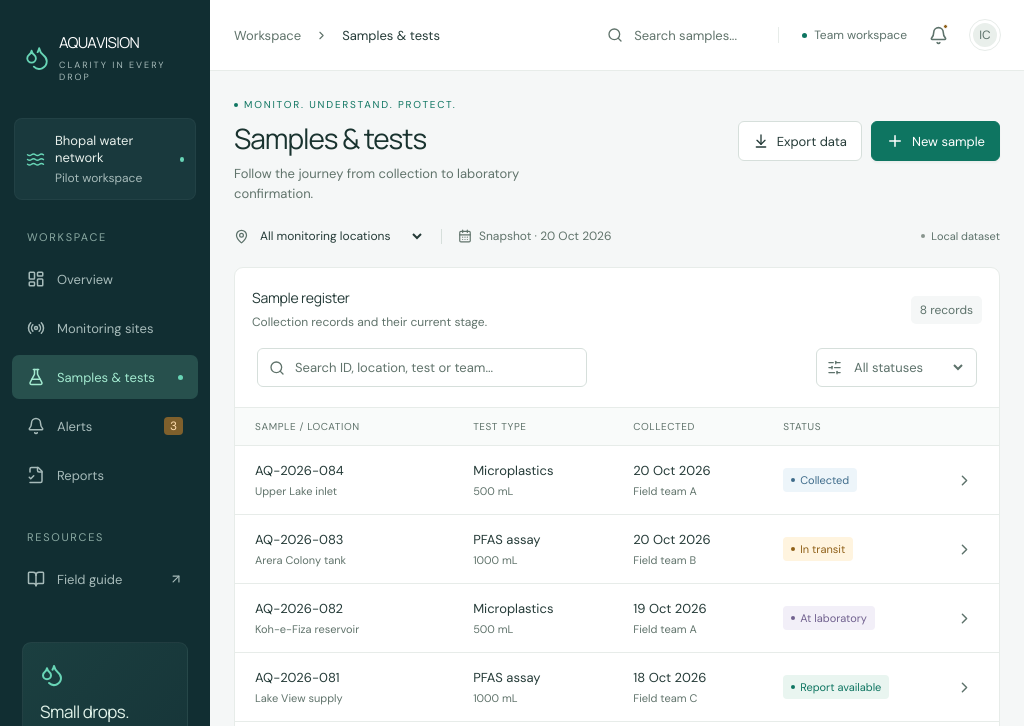
it: frontend workflows without a browser or service › validates registration, retains data and focuses the first invalid field
Click the button "New sample" at (935, 141), box [871,121,1000,161]
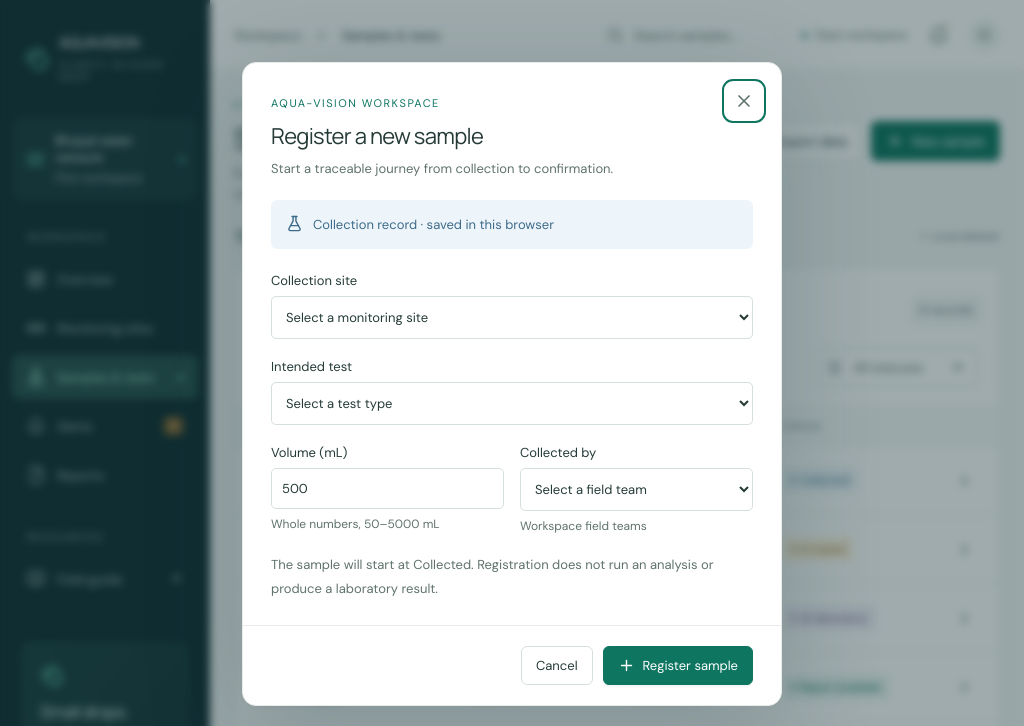
Click the button "Register sample" at (678, 666), box [602,646,753,685]
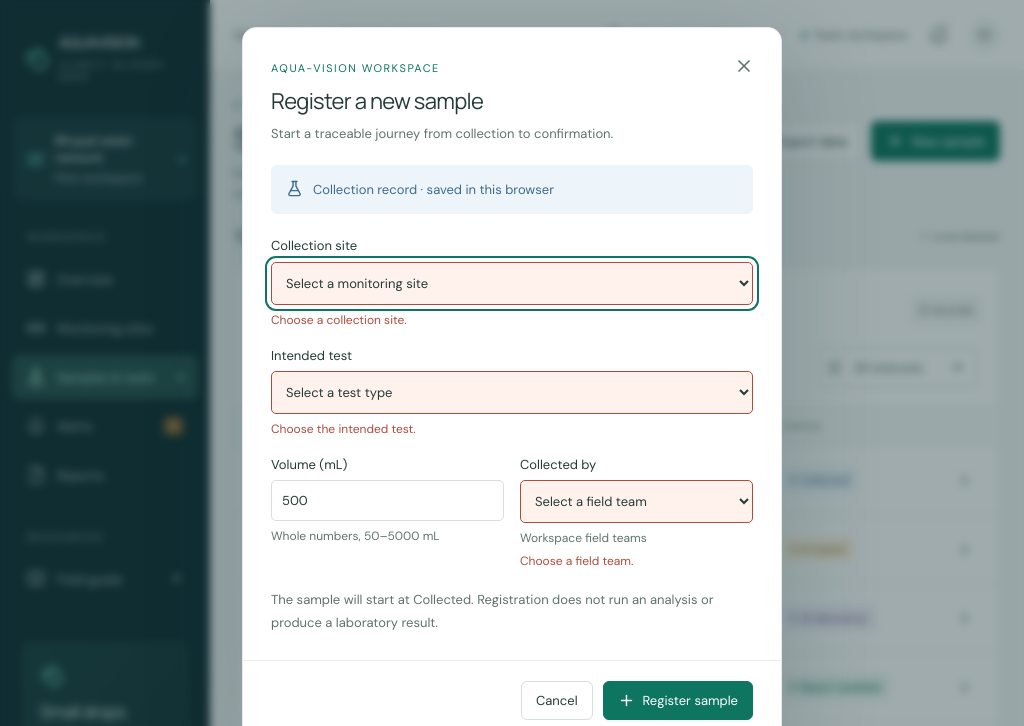
Expected: the text "Choose a collection site." is shown, [271,312,407,328]
Select "Bairagarh intake" in the dropdown labelled "Collection site" at (512, 283), box [271,262,753,305]
Select "Microplastic screening" in the dropdown labelled "Intended test" at (512, 392), box [271,371,753,414]
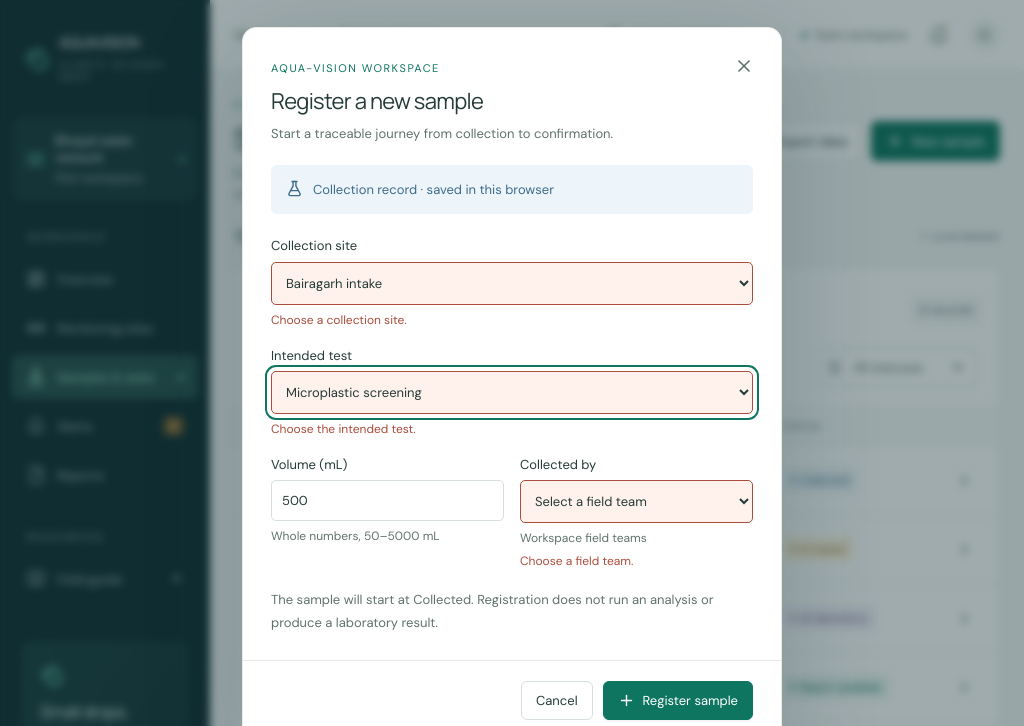
Select "Field team A" in the dropdown labelled "Collected by" at (636, 501), box [520,480,753,523]
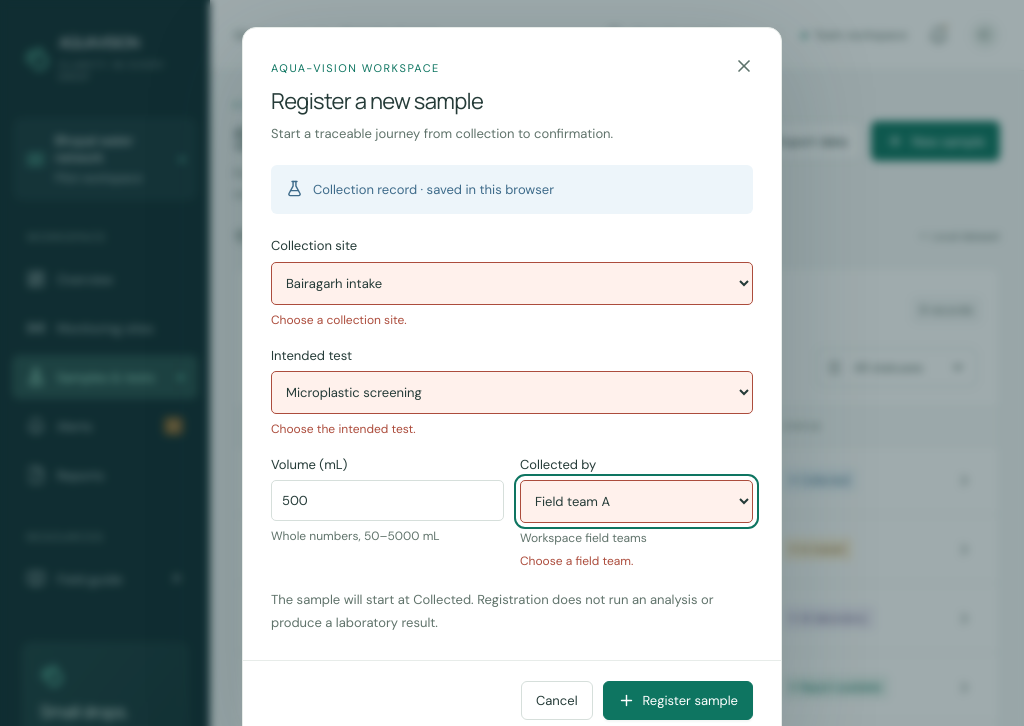
Replace the text in the number field labelled "Volume (mL)" with "49" at (388, 500), box [271,480,504,521]
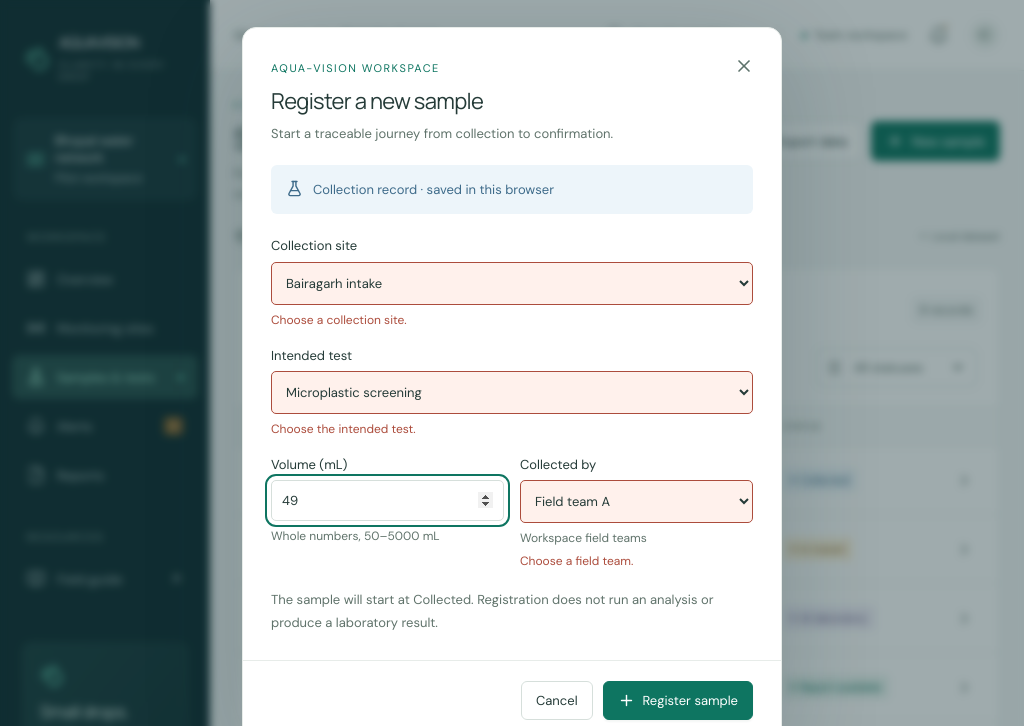
Click the button "Register sample" at (678, 700), box [602,681,753,720]
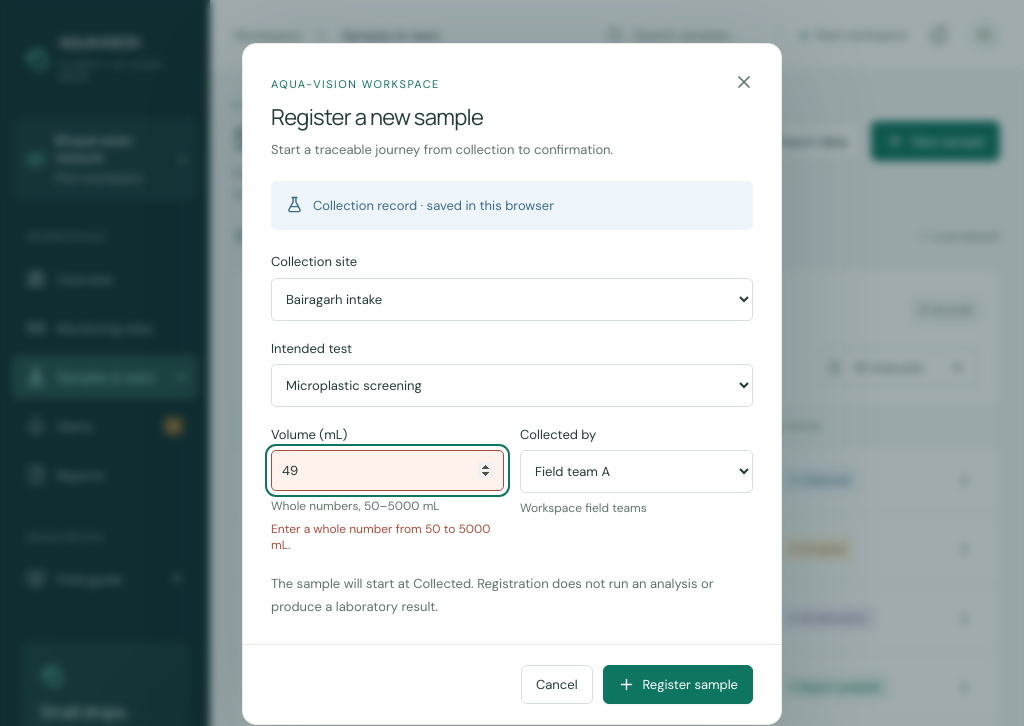
Expected: the text "Enter a whole number from 50 to 5000 mL." is shown, [271,521,504,553]
